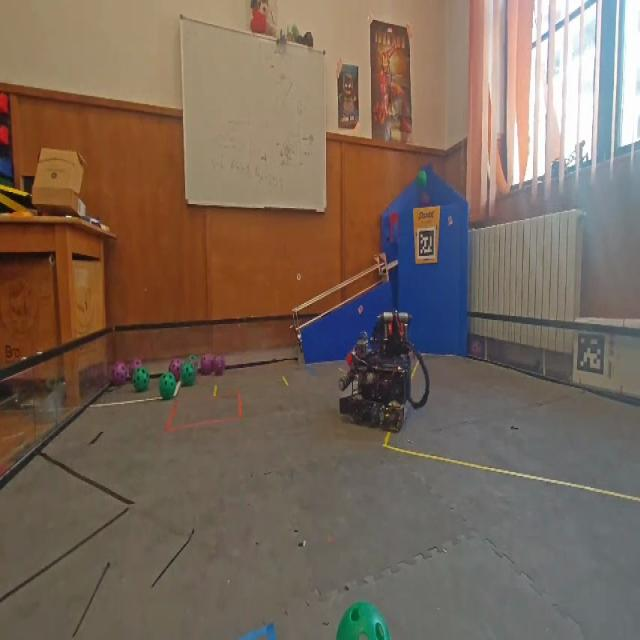artifact_green: (337, 602, 391, 639), (159, 372, 176, 399), (133, 367, 149, 391), (181, 362, 196, 386), (416, 170, 427, 191), (189, 355, 200, 371)
artifact_purple: (111, 362, 127, 386), (168, 359, 182, 381), (129, 359, 143, 378), (201, 354, 213, 375), (213, 356, 224, 375), (219, 355, 225, 370)
